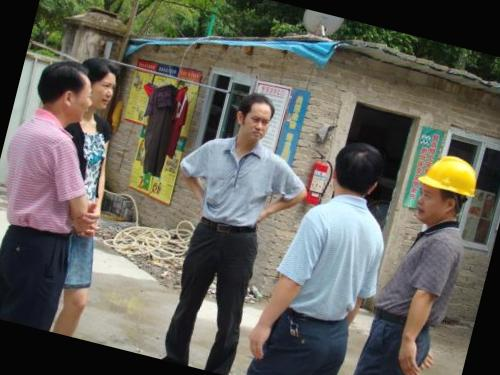no_helmet: (27, 52, 104, 132), (325, 135, 389, 206), (230, 87, 281, 150), (76, 52, 124, 115)
